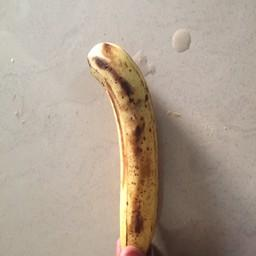Banana Ripe: (72, 38, 184, 256)
